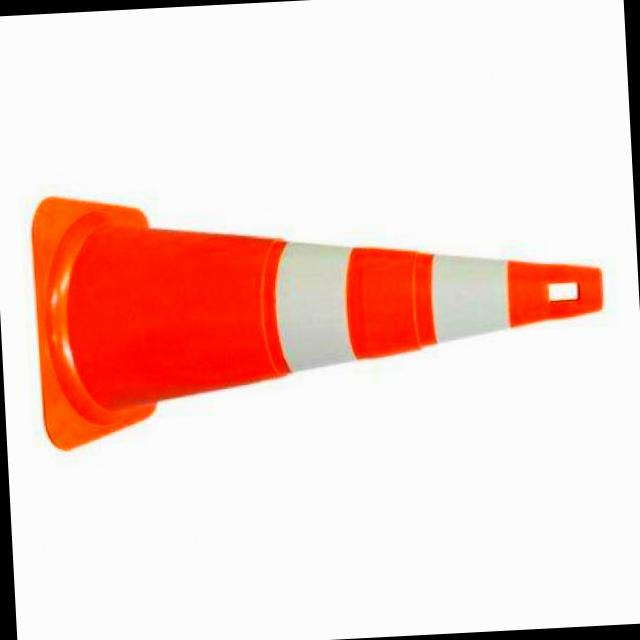cone: (28, 164, 612, 446)
